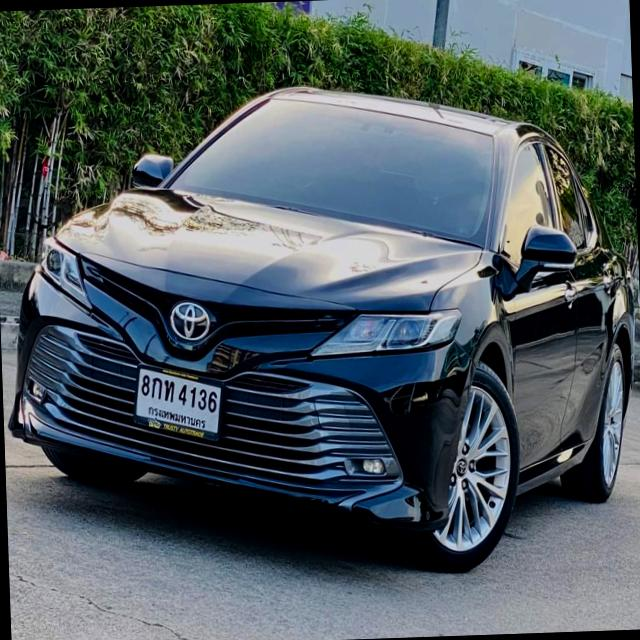license_plate: (128, 358, 227, 450)
